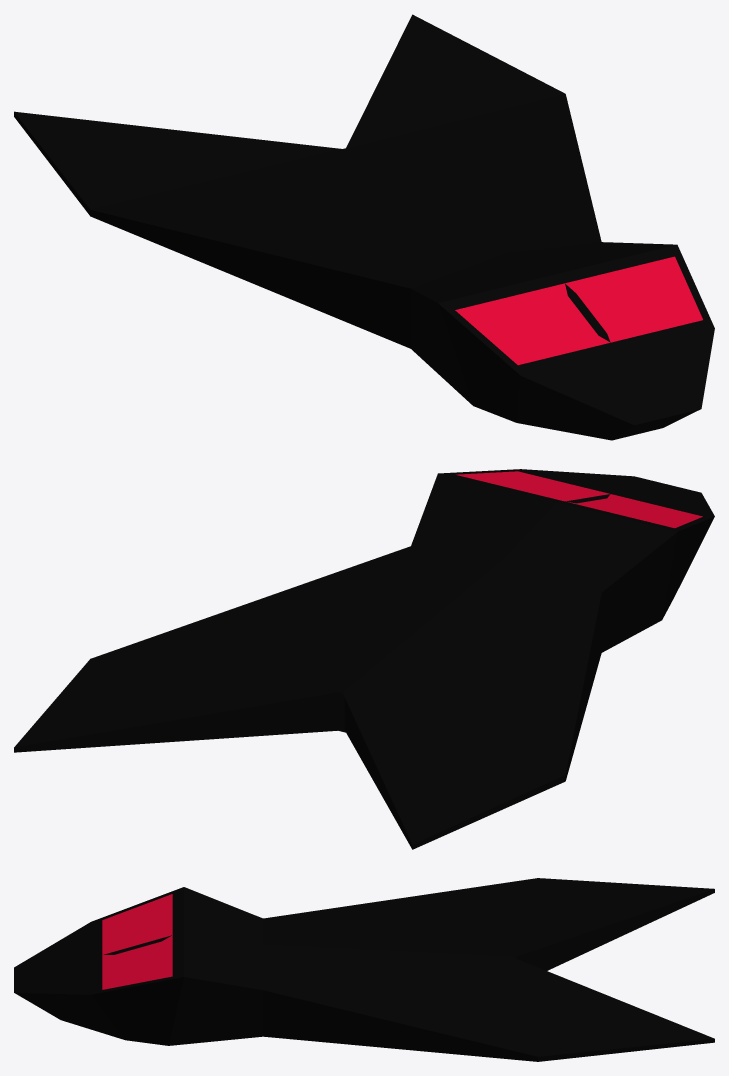
Rendered from BlackFighter2.fbx.
The picture shows the model from 3 angles, top to bottom: view 1: azimuth 30°, elevation 25°; view 2: azimuth 150°, elevation 25°; view 3: azimuth 270°, elevation 25°; orthographic projection. The views are drawn at different scales.
Parts seen in each view (by area): view 1: Cube; view 2: Cube; view 3: Cube.
Part boxes in pixels (x1,y1,x2,y2): Cube: [14, 14, 714, 440]; Cube: [14, 469, 714, 849]; Cube: [14, 878, 714, 1061].
Size of the model in its own units: 4.33 by 0.8863 by 7.17.
